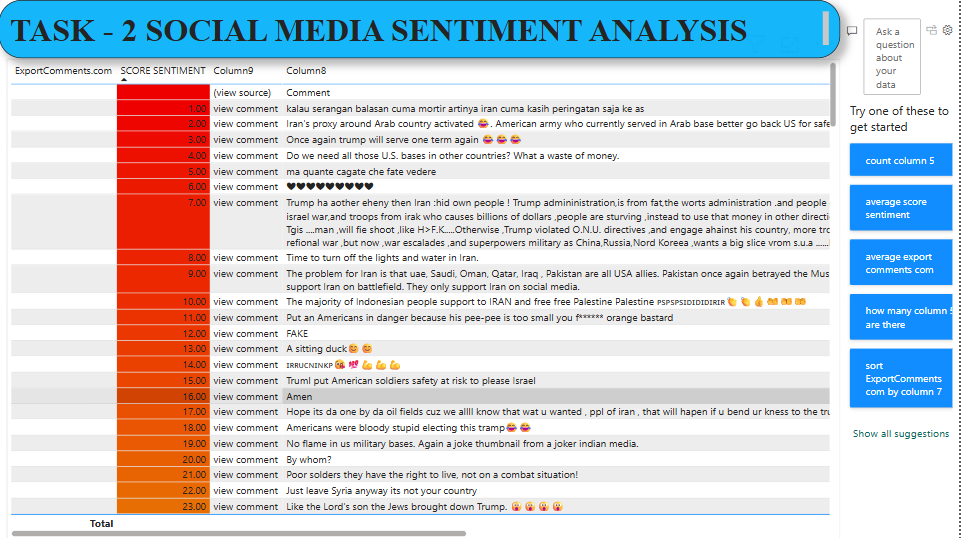

The page's visual inventory and layout, read from the dashboard file:
{"tool":"powerbi","page":{"name":"Page 1","canvas":[1280,720],"ordinal":0},"visuals":[{"type":"tableEx","fields":{"Values":["ExportComments com.ExportComments.com","ExportComments com.Exported by","ExportComments com.Column9","ExportComments com.Column8","ExportComments com.Column7","ExportComments com.Column6","ExportComments com.Column4","ExportComments com.Column5","ExportComments com.Column3"]},"box":[10,77.5,1111.2,642.5],"z":0},{"type":"qnaVisual","box":[1121.2,0,158.8,720],"z":1000},{"type":"textbox","box":[0,0,1121.2,77.5],"z":2000}]}

Visuals, with their boxes on the page's 1280x720 design canvas (x1, y1, x2, y2). These are canvas units, not pixel positions in the 961x538 screenshot, which may show the page scaled, cropped or inside an application window:
tableEx - ExportComments com.ExportComments.com x ExportComments com.Exported by: box=[10, 78, 1121, 720]
qnaVisual: box=[1121, 0, 1280, 720]
textbox: box=[0, 0, 1121, 78]
